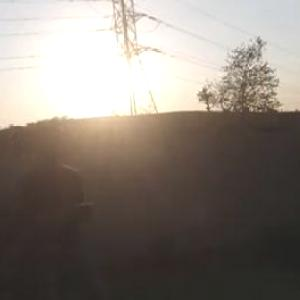follow: (17, 117, 98, 299)
